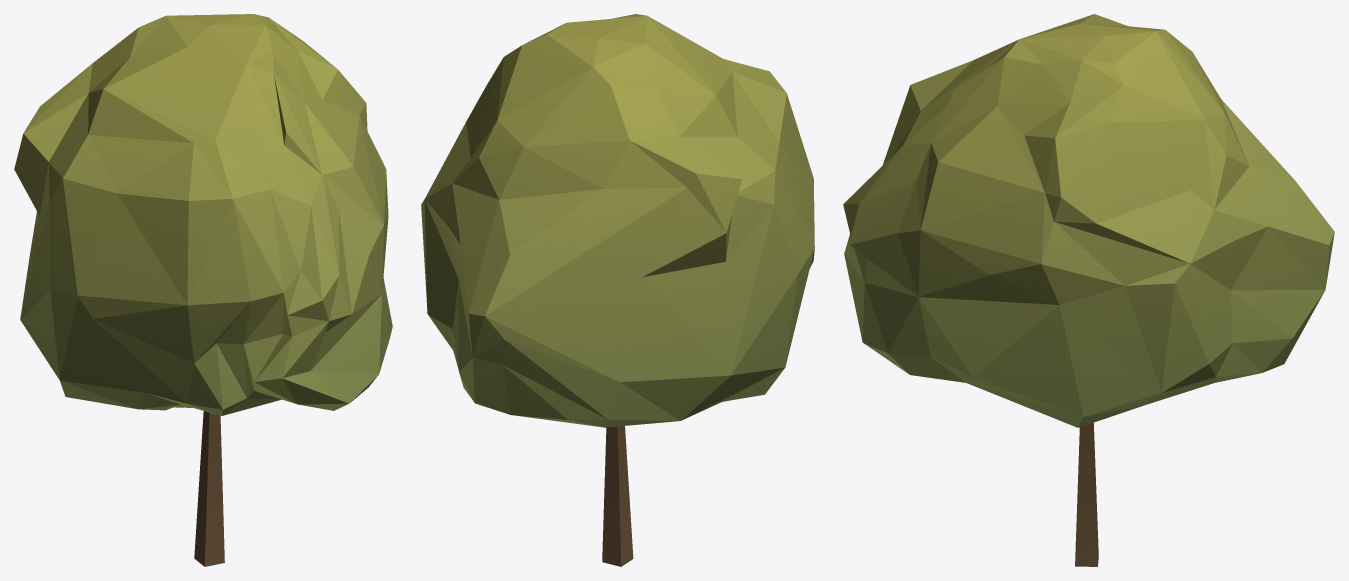
Rendered from extra-large-tree-3.glb.
The picture shows the model from 3 angles, left to right: view 1: azimuth 30°, elevation 25°; view 2: azimuth 150°, elevation 25°; view 3: azimuth 270°, elevation 25°; orthographic projection.
Visible parts, largest first — view 1: extra-large-tree-3; view 2: extra-large-tree-3; view 3: extra-large-tree-3.
Boxes of the visible parts, <box> form: extra-large-tree-3: <box>14,14,392,566</box>; extra-large-tree-3: <box>421,14,814,566</box>; extra-large-tree-3: <box>843,14,1334,566</box>.
Bounding box in the file's own units: 0.426 × 0.6623 × 0.556.
Materials: 1 (1 with a texture image).
